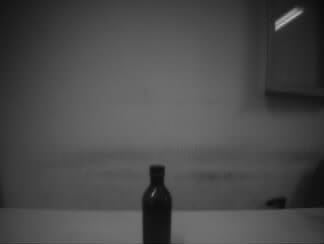Bottle: (143, 165, 172, 244)
